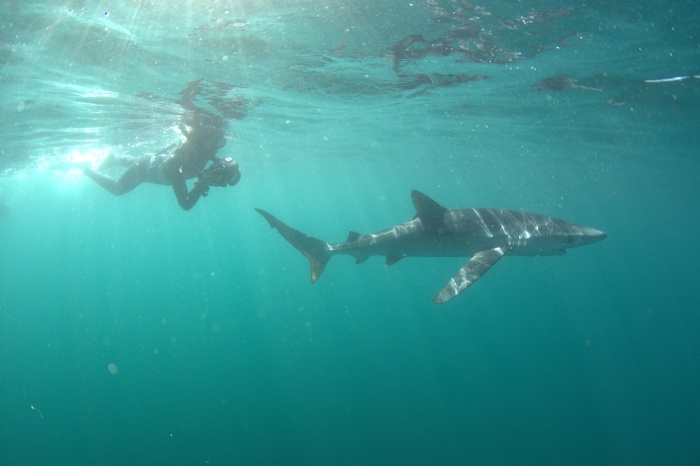Azul: (228, 173, 630, 336)
